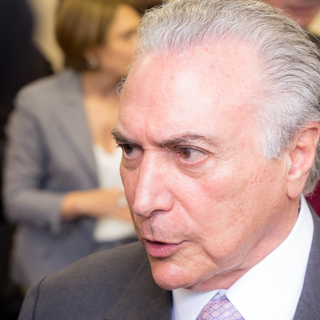eye: (164, 139, 222, 169), (114, 138, 150, 163)
